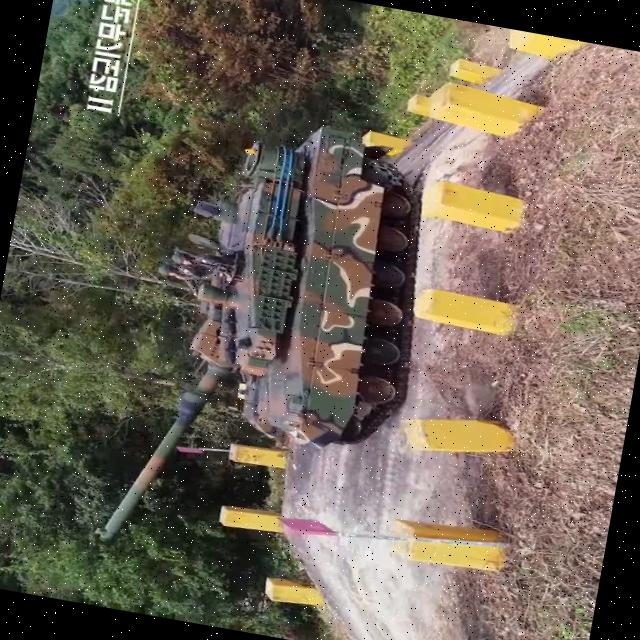korea tank: (90, 94, 450, 589)
